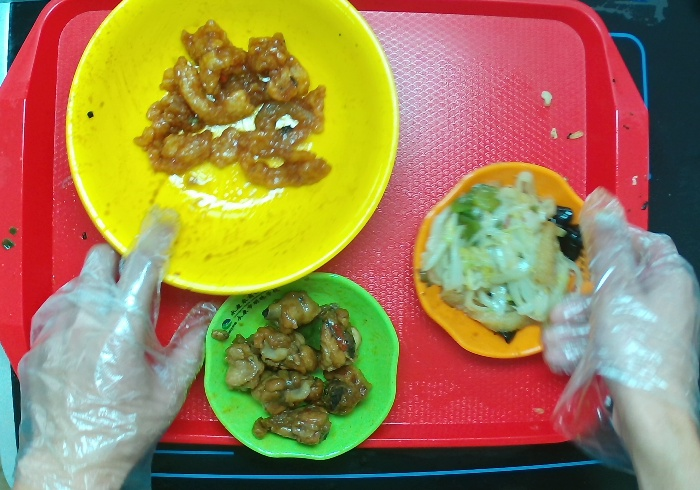YKMZ-Huang_Se_Tang_Wan: (64, 1, 401, 297)
YKMZ-Ju_Se_Ao_Bian_Wan: (411, 160, 601, 360)
YKMZ-Lv_Se_Ao_Bian_Wan: (202, 270, 401, 461)
